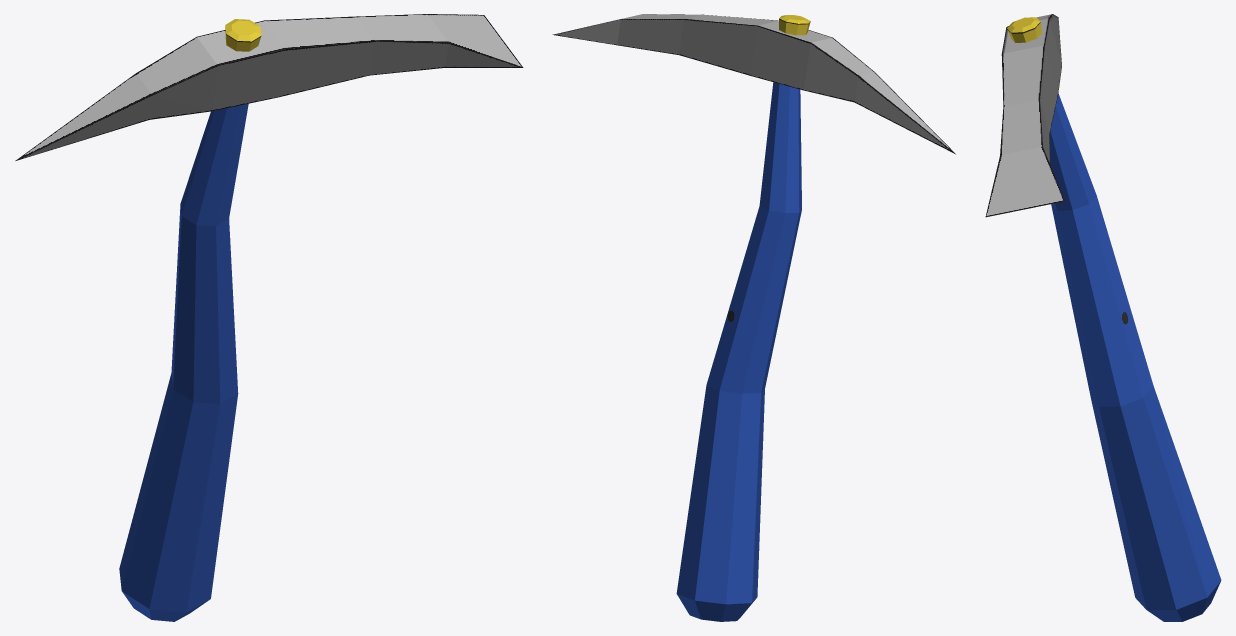
File: pickaxe.fbx
The picture shows the model from 3 angles, left to right: view 1: azimuth 30°, elevation 25°; view 2: azimuth 150°, elevation 25°; view 3: azimuth 270°, elevation 25°; orthographic projection. The views are drawn at different scales.
Visible parts, largest first — view 1: Pickaxe; view 2: Pickaxe; view 3: Pickaxe.
Boxes of the visible parts, left/top/right/bottom form: Pickaxe: left=15, top=14, right=523, bottom=621; Pickaxe: left=552, top=14, right=955, bottom=621; Pickaxe: left=985, top=14, right=1221, bottom=621.
Bounding box in the file's own units: 53.51 × 70.4 × 25.43.
1 material, 1 textured.
